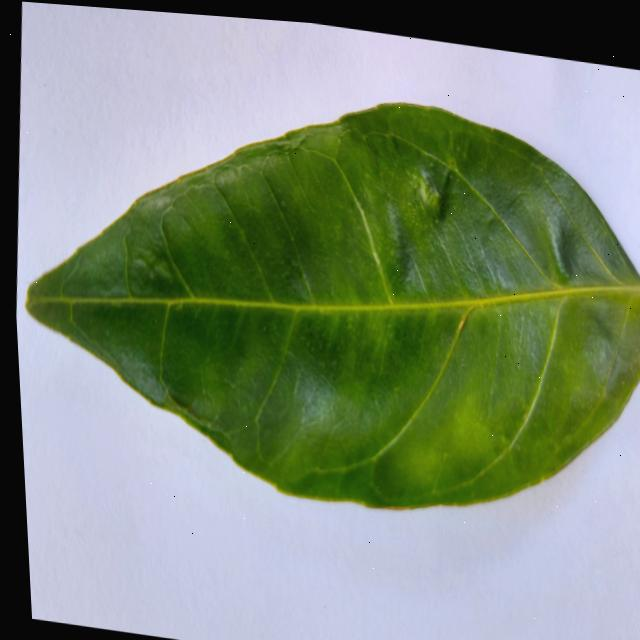greening: (26, 103, 640, 508)
